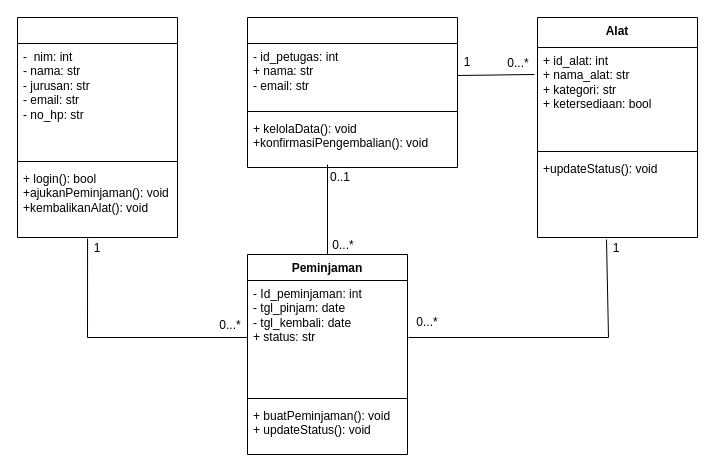
The diagram is 715 pixels wide and 475 high, and some of its shapes have lost their labels. Here are the shapes that lost their labels. From the top down, the box of each, then its label:
(246, 16, 458, 168): Admin/Petugas Laboratorium
(16, 16, 178, 238): Mahasiswa
